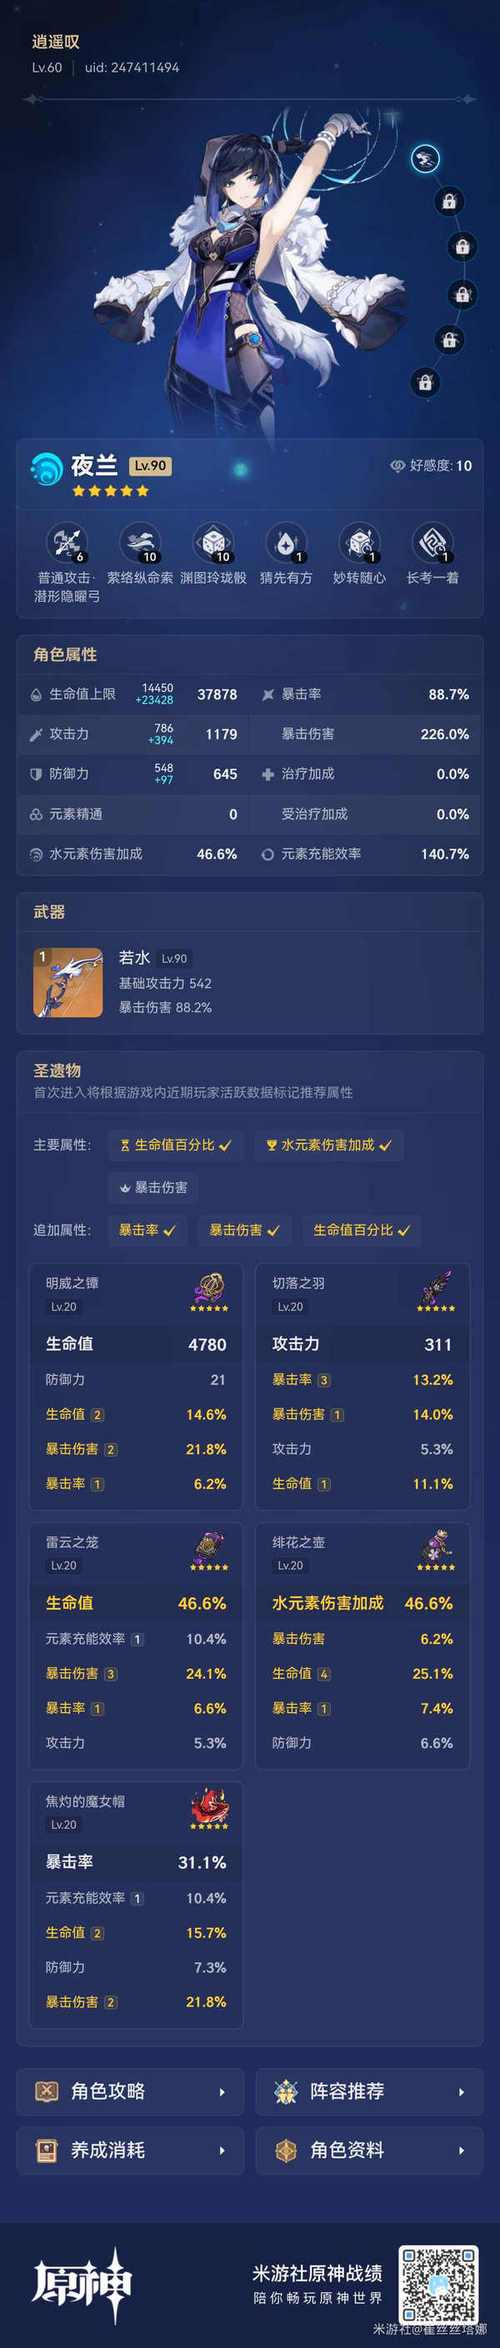夜兰: (81, 81, 412, 457)
